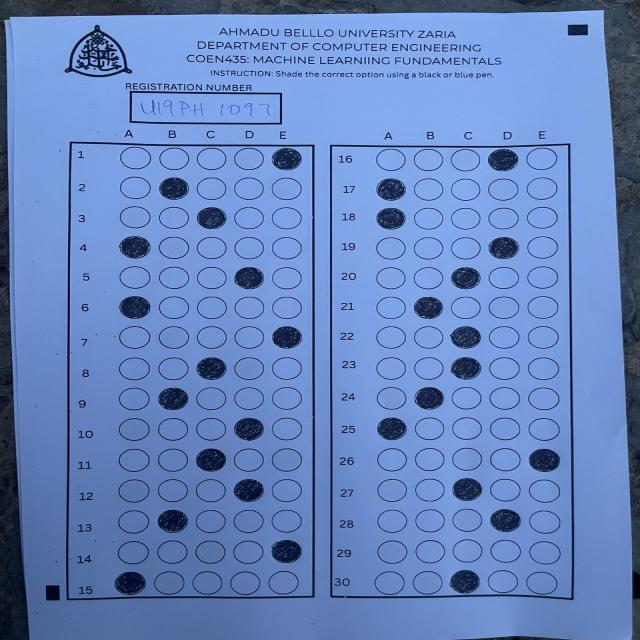bubble: (528, 448, 560, 473), (270, 147, 303, 171), (119, 295, 152, 319), (157, 509, 189, 533), (114, 571, 146, 595), (450, 569, 480, 594), (488, 148, 519, 172), (451, 266, 482, 290), (271, 539, 302, 563), (490, 508, 521, 532), (196, 448, 227, 472), (233, 478, 264, 502), (119, 236, 151, 259), (488, 237, 520, 260), (234, 266, 264, 290), (376, 417, 406, 441), (234, 417, 264, 441), (451, 356, 482, 379), (158, 387, 189, 410), (452, 478, 483, 501), (450, 326, 482, 348), (159, 177, 189, 200), (196, 207, 226, 230), (414, 296, 444, 319), (196, 356, 226, 379), (414, 386, 444, 409), (272, 326, 303, 348), (376, 178, 406, 200), (376, 208, 406, 230)
